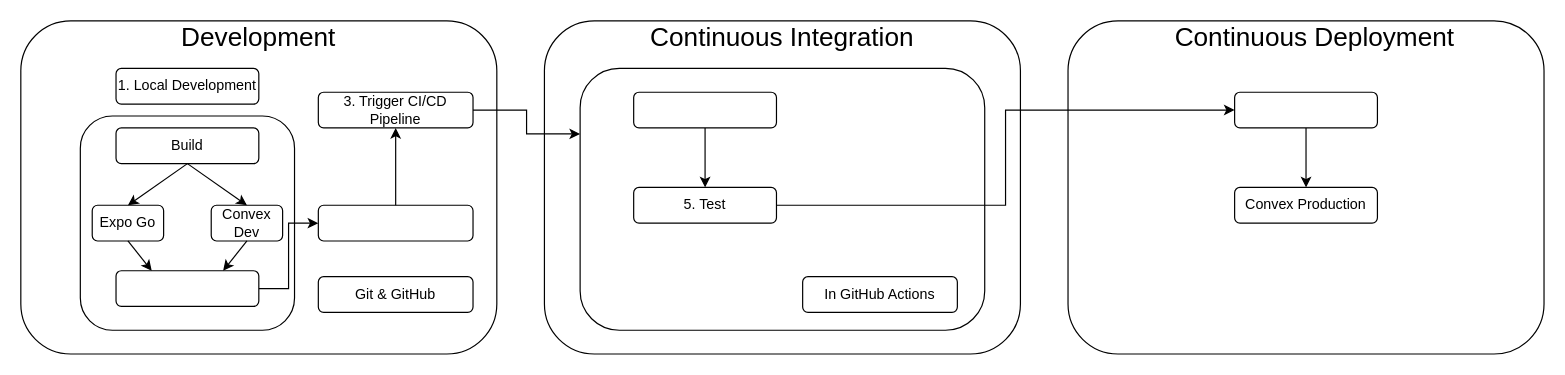
The diagram is 1565 pixels wide and 375 high, and some of its shapes have lost their labels. Each missing label, with the centre of its shape:
2. Source Code Control: the point at 395,222
4. Lint & Format: the point at 704,109
6 Deploy: the point at 1305,109
Test: the point at 187,288
